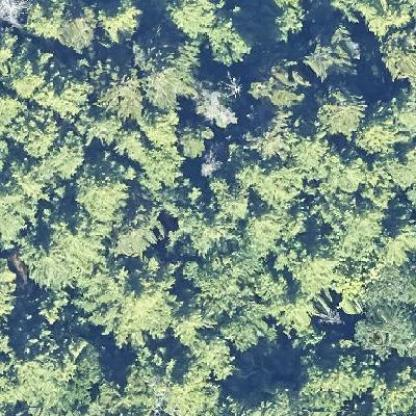tree-top: (78, 255, 176, 341), (286, 350, 374, 402), (17, 217, 82, 286), (72, 164, 133, 225), (350, 296, 415, 352), (90, 59, 148, 119), (301, 28, 363, 80), (190, 78, 246, 133), (133, 140, 187, 192), (313, 88, 371, 136), (40, 125, 89, 181), (182, 330, 237, 379), (13, 103, 62, 156), (206, 176, 259, 223), (164, 0, 222, 40), (96, 0, 146, 46), (369, 366, 415, 415), (54, 5, 97, 57), (208, 19, 253, 64)
